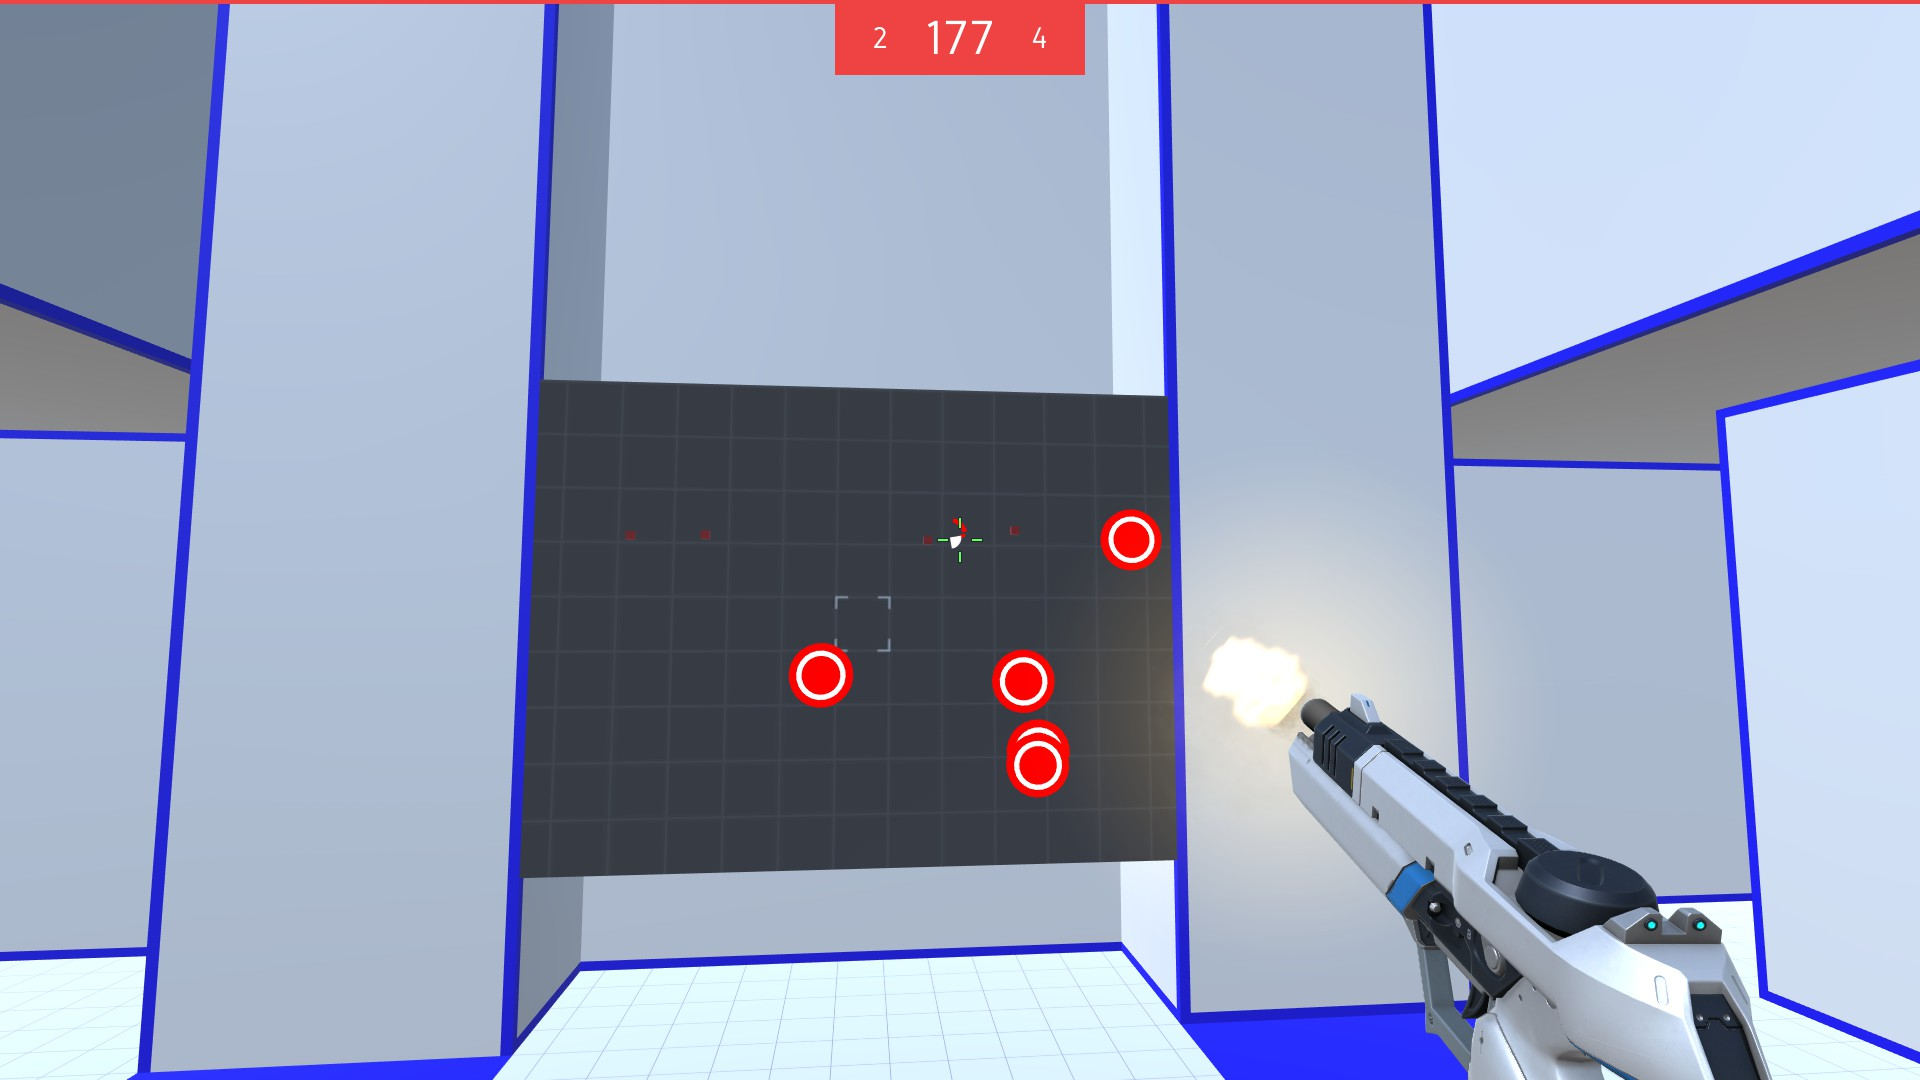target: (789, 640, 858, 711), (1095, 502, 1163, 574), (992, 645, 1055, 713), (1006, 737, 1071, 799)
